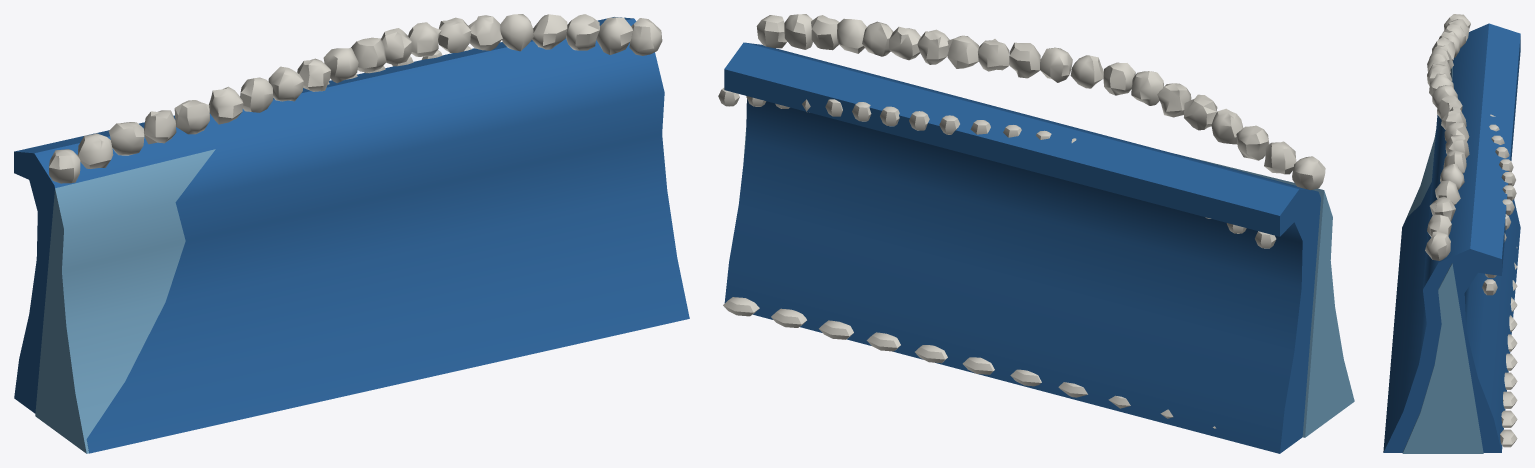
Rendered from 395_vague_geante.fbx.
3 renders of one model, left to right at view 1: azimuth 30°, elevation 25°; view 2: azimuth 150°, elevation 25°; view 3: azimuth 270°, elevation 25°, orthographic. The views are drawn at different scales.
Parts seen in each view (by area): view 1: Vague, Ecume; view 2: Vague, Ecume; view 3: Vague, Ecume.
Boxes of the visible parts, x1,y1,x2,y2 form: Vague: [14, 17, 689, 453]; Ecume: [49, 14, 662, 183]; Vague: [724, 42, 1354, 453]; Ecume: [718, 14, 1325, 428]; Vague: [1383, 23, 1520, 453]; Ecume: [1425, 14, 1517, 447].
Size of the model in its own units: 16.8 by 8.4 by 4.2.
1 material, 1 textured.
